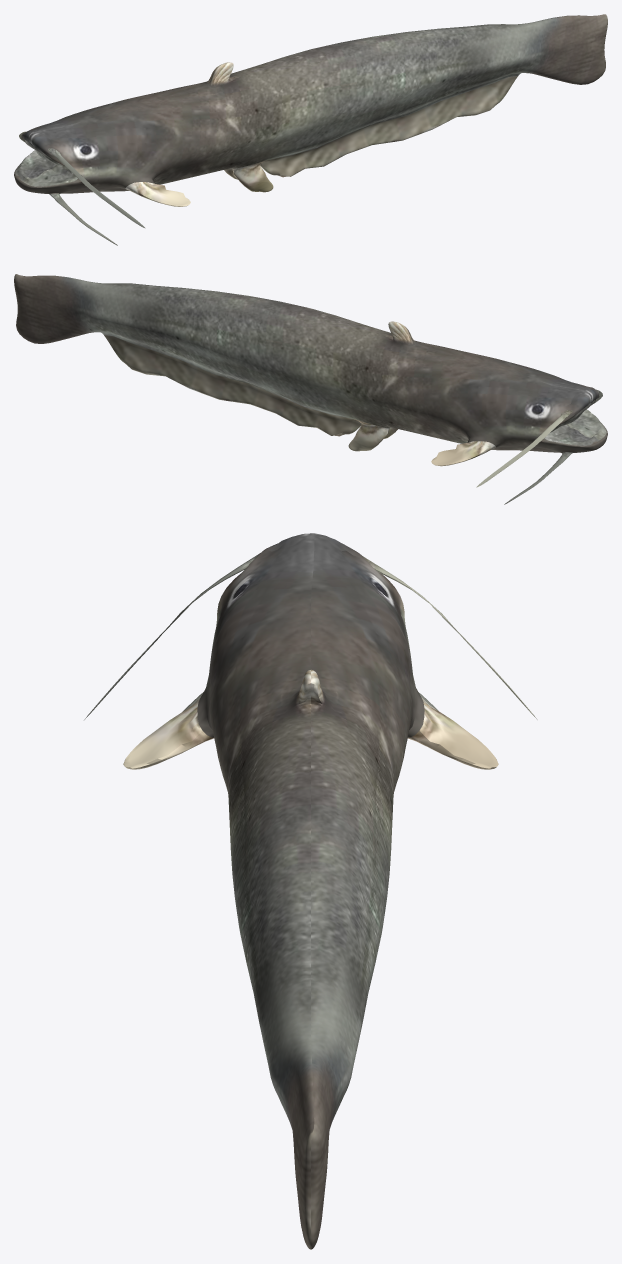
File: catfish.glb
3 views of the same model, one above another, from view 1: azimuth 30°, elevation 25°; view 2: azimuth 150°, elevation 25°; view 3: azimuth 270°, elevation 25° (orthographic). The views are drawn at different scales.
Parts seen in each view (by area): view 1: Cube; view 2: Cube; view 3: Cube.
Boxes of the visible parts, x1=… form: Cube: x1=14, y1=14, x2=607, y2=245; Cube: x1=14, y1=274, x2=607, y2=504; Cube: x1=84, y1=533, x2=537, y2=1249.
Bounding box in the file's own units: 392 × 83.08 × 131.
Materials: 1 (1 with a texture image).
